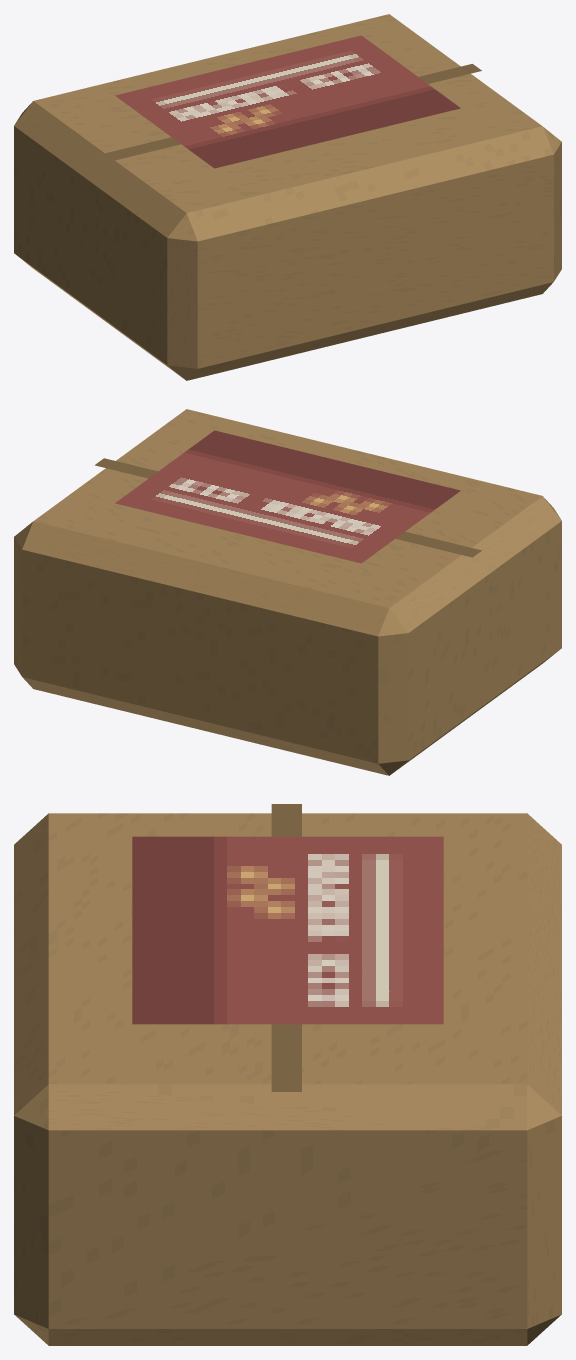
The model's file is maker_kit_box.glb.
3 renders of one model, top to bottom at view 1: azimuth 30°, elevation 25°; view 2: azimuth 150°, elevation 25°; view 3: azimuth 270°, elevation 25°, orthographic. The views are drawn at different scales.
Parts seen in each view (by area): view 1: block_container body, block_case label, block_fold or seam; view 2: block_container body, block_case label, block_fold or seam; view 3: block_container body, block_case label, block_fold or seam.
Boxes of the visible parts, left/top/right/bottom form: block_container body: left=14, top=14, right=561, bottom=380; block_case label: left=115, top=35, right=460, bottom=168; block_fold or seam: left=95, top=64, right=481, bottom=162; block_container body: left=14, top=409, right=561, bottom=775; block_case label: left=115, top=430, right=460, bottom=563; block_fold or seam: left=95, top=458, right=481, bottom=557; block_container body: left=14, top=813, right=561, bottom=1345; block_case label: left=132, top=836, right=443, bottom=1024; block_fold or seam: left=271, top=804, right=301, bottom=1091.
Size of the model in its own units: 0.2476 by 0.1075 by 0.1908.
1 material, 1 textured.
